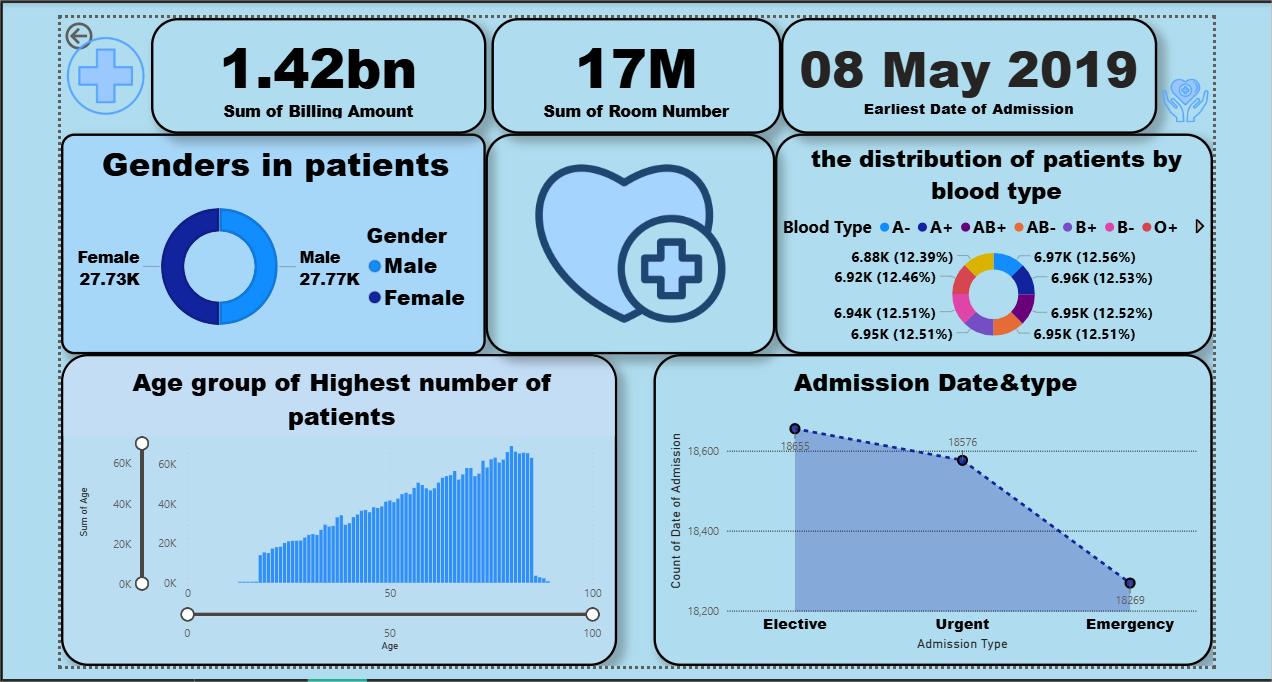

Layout of this report page (visuals, bound fields, positions):
{"tool":"powerbi","page":{"name":"Page 1","canvas":[1280,720],"ordinal":0},"visuals":[{"type":"donutChart","title":"Genders in patients","fields":{"Category":["healthcare_dataset.Gender"],"Y":["CountNonNull(healthcare_dataset.Gender)"]},"box":[0,128.5,471.7,245.6],"z":0},{"type":"actionButton","box":[0,0,100,40],"z":1000},{"type":"columnChart","title":"Age group of Highest number of patients","fields":{"Y":["Sum(healthcare_dataset.Age)"],"Category":["healthcare_dataset.Age"]},"box":[0,374.1,618.1,346.5],"z":2000},{"type":"donutChart","title":"the distribution of patients by blood type","fields":{"Category":["healthcare_dataset.Blood Type"],"Y":["CountNonNull(healthcare_dataset.Blood Type)"],"Series":["healthcare_dataset.Blood Type"]},"box":[793.8,128.5,486.3,245.6],"z":3000},{"type":"lineChart","title":"Admission Date&type","fields":{"Category":["healthcare_dataset.Admission Type"],"Y":["CountNonNull(healthcare_dataset.Date of Admission)"]},"box":[658.8,374.1,621.3,346.5],"z":4000},{"type":"image","box":[471.7,128.5,322.1,245.6],"z":5000},{"type":"image","box":[0,0,100,128.3],"z":6000},{"type":"card","fields":{"Values":["Sum(healthcare_dataset.Billing Amount)"]},"box":[99.2,0,372.5,128.5],"z":7000},{"type":"card","fields":{"Values":["Sum(healthcare_dataset.Room Number)"]},"box":[478.2,0,322.1,128.5],"z":7001},{"type":"card","fields":{"Values":["Min(healthcare_dataset.Date of Admission)"]},"box":[800.3,0,418,128.5],"z":7002},{"type":"image","box":[1218.3,19.5,61.8,143.1],"z":7003}]}

Visuals, with their boxes in screenshot pixels (x1, y1, x2, y2):
"Genders in patients" donutChart: 56, 129, 482, 351
actionButton: 56, 13, 146, 49
"Age group of Highest number of patients" columnChart: 56, 351, 614, 663
"the distribution of patients by blood type" donutChart: 772, 129, 1210, 351
"Admission Date&type" lineChart: 650, 351, 1210, 663
image: 482, 129, 772, 351
image: 56, 13, 146, 129
card - Sum(healthcare_dataset.Billing Amount): 146, 13, 482, 129
card - Sum(healthcare_dataset.Room Number): 487, 13, 778, 129
card - Min(healthcare_dataset.Date of Admission): 778, 13, 1155, 129
image: 1155, 31, 1210, 160
